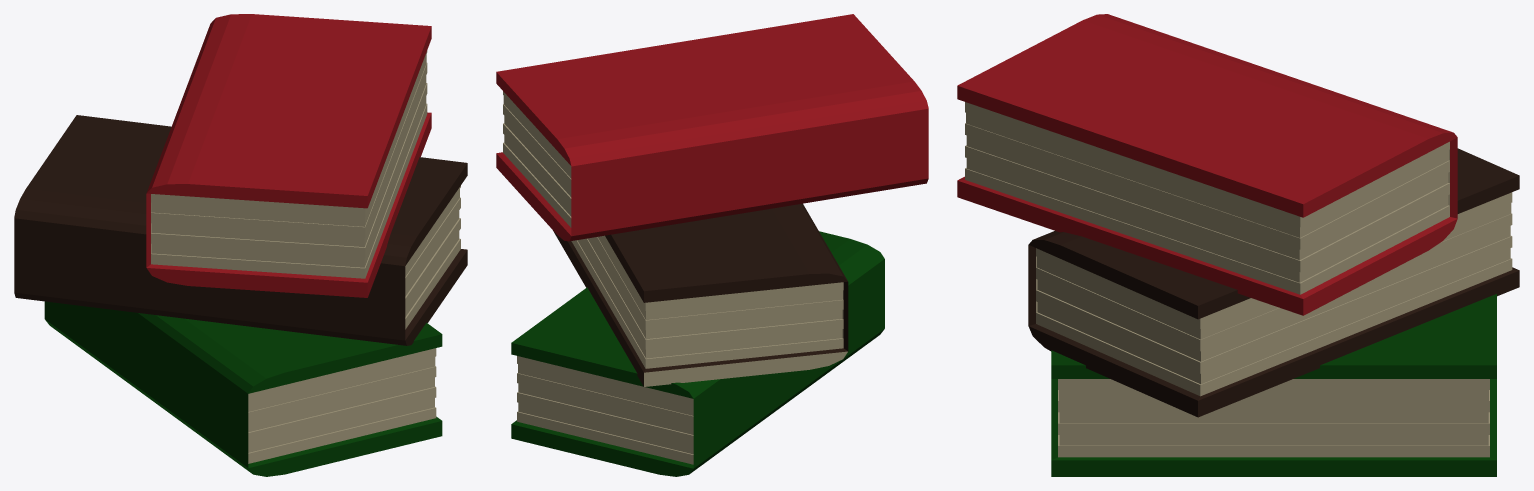
File: booksDistorted.fbx
3 renders of one model, left to right at view 1: azimuth 30°, elevation 25°; view 2: azimuth 150°, elevation 25°; view 3: azimuth 270°, elevation 25°, orthographic. The views are drawn at different scales.
Visible parts, largest first — view 1: Cube; view 2: Cube; view 3: Cube.
Boxes of the visible parts, x1=… form: Cube: x1=14, y1=14, x2=467, y2=476; Cube: x1=496, y1=14, x2=928, y2=476; Cube: x1=957, y1=14, x2=1519, y2=476.
Bounding box in the file's own units: 225 × 163 × 252.
